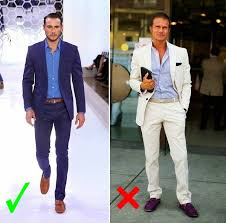F_M_suit jacket: (23, 40, 88, 116)
F_belt: (34, 94, 69, 109)
F_dress pants: (35, 112, 76, 201)
